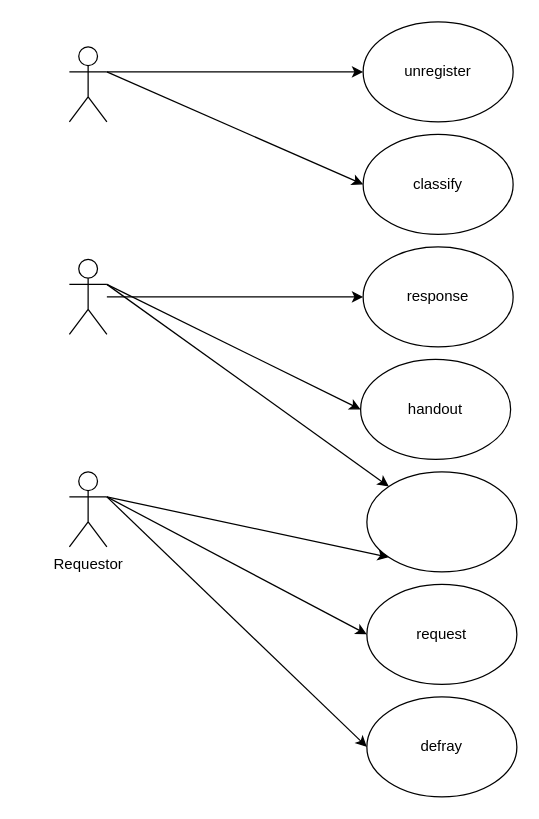
Some shapes in this 539 by 819 pixel diagram are drawn without their labels. Here are the shapes that lost their labels. From the top down, the box of each, then its label:
(68, 46, 107, 122): Chairperson
(68, 258, 107, 334): Health Asset Holder
(366, 471, 517, 572): register
